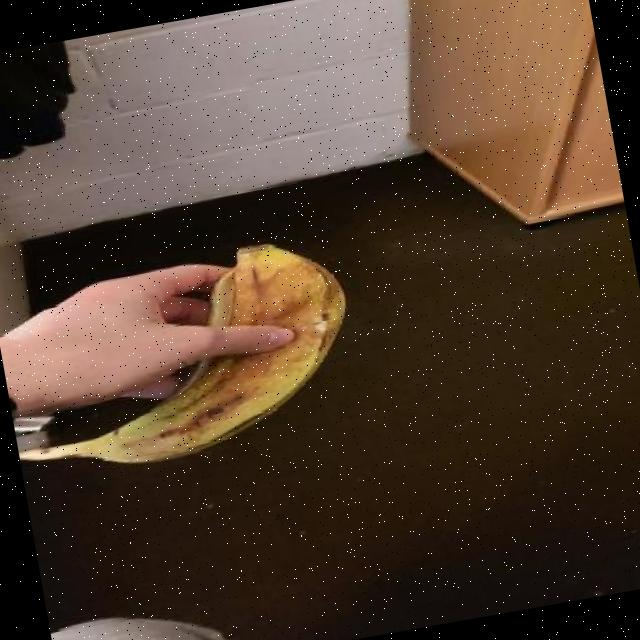banana-peel: (0, 226, 369, 487)
